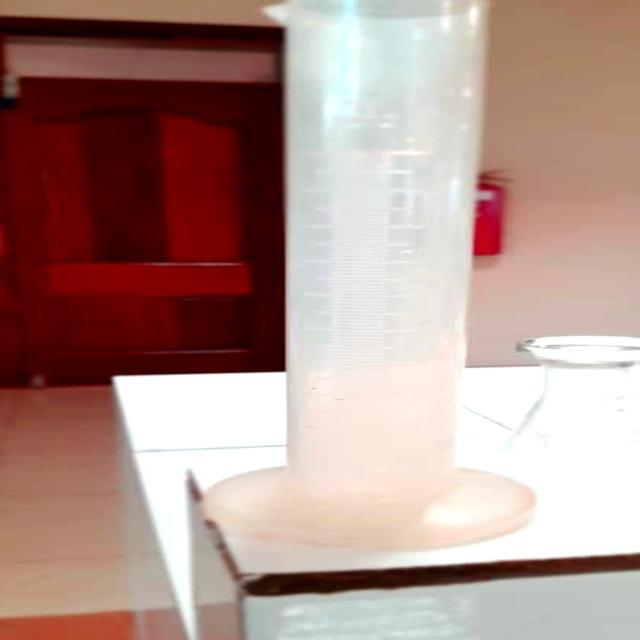Measuring Cylinder: (242, 6, 524, 538)
